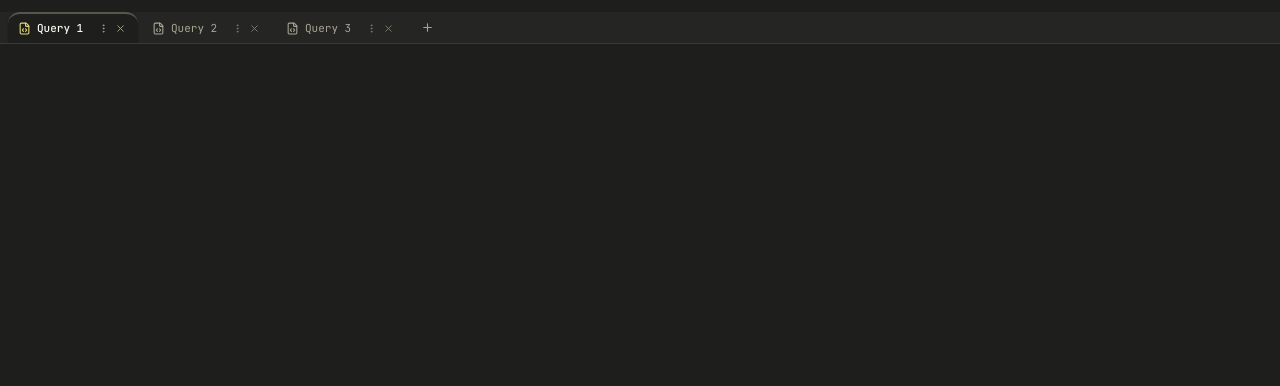
Test case: SqlEditorTabs Component › opens menu via more options button (...) and closes on Escape
This screenshot has width=1280, height=386.
Step 1. Click the button named "标签选项" next to "Query 1" → (104, 28), box [96, 21, 111, 36]
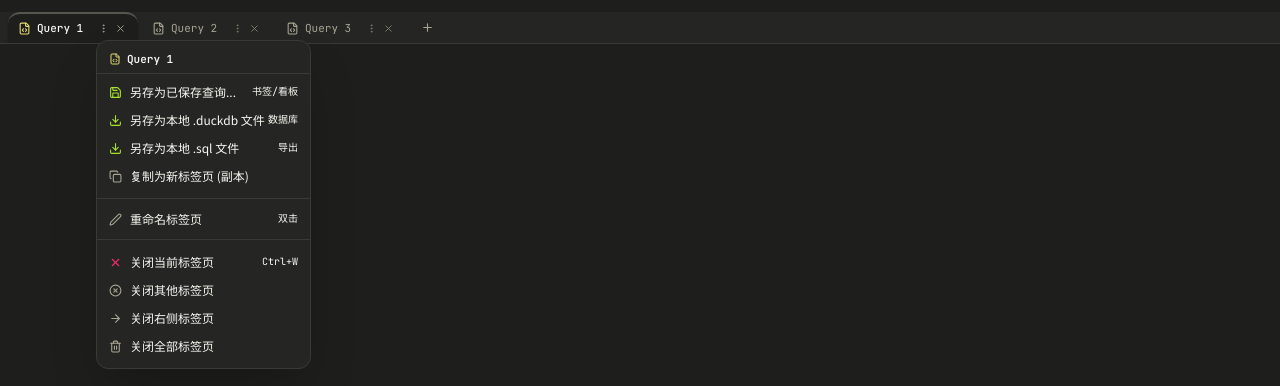
Expected: the text "另存为已保存查询..." is shown, [130, 84, 236, 100]
Escape closes menu
Step 2. Press Escape
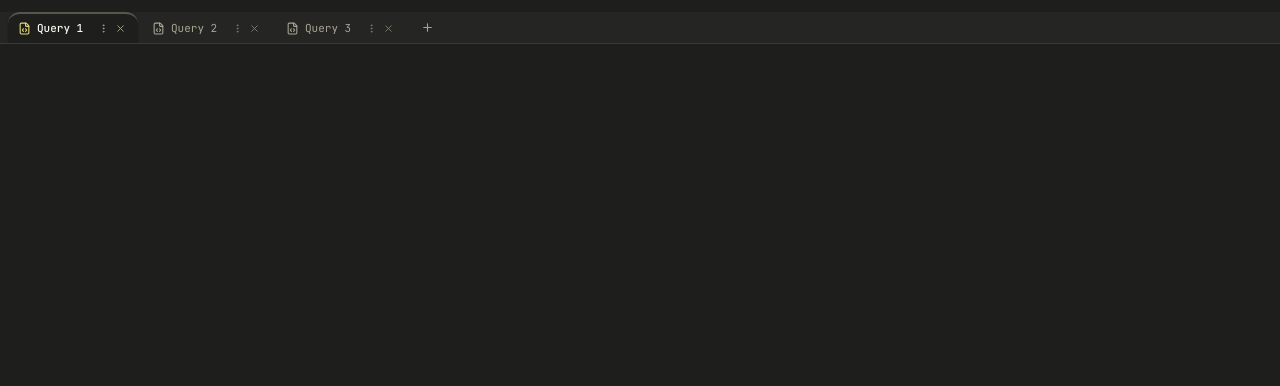
Expected: the button "另存为已保存查询..." is gone
